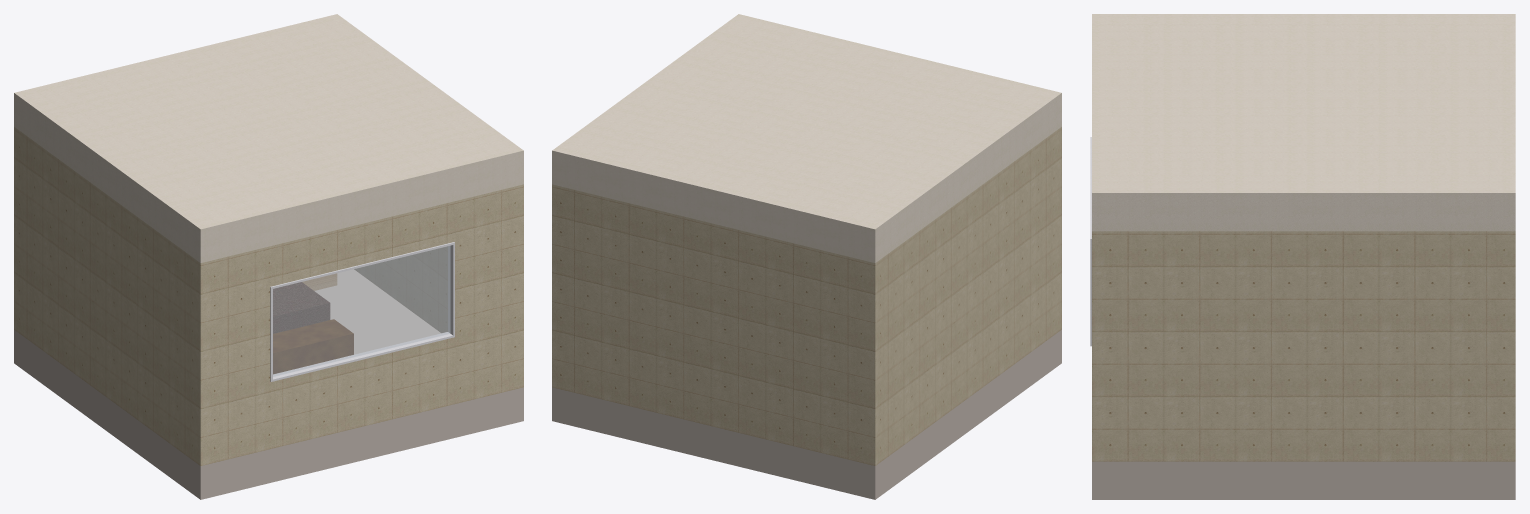
File: badroom.glb
3 views of the same model, side by side, from view 1: azimuth 30°, elevation 25°; view 2: azimuth 150°, elevation 25°; view 3: azimuth 270°, elevation 25° (orthographic). The views are drawn at different scales.
Visible parts, largest first — view 1: Untitled.005, Untitled.004, Untitled.019, Untitled.003, Untitled.009; view 2: Untitled.005; view 3: Untitled.005.
Part boxes in pixels (left/top/right/bottom): Untitled.005: left=14, top=14, right=523, bottom=499; Untitled.004: left=273, top=246, right=450, bottom=376; Untitled.019: left=273, top=319, right=353, bottom=374; Untitled.003: left=270, top=242, right=454, bottom=381; Untitled.009: left=273, top=282, right=330, bottom=333; Untitled.005: left=552, top=14, right=1061, bottom=499; Untitled.005: left=1092, top=14, right=1515, bottom=499.
Bounding box in the file's own units: 5000 × 4000 × 5020.
Materials: 9 (7 with a texture image).
